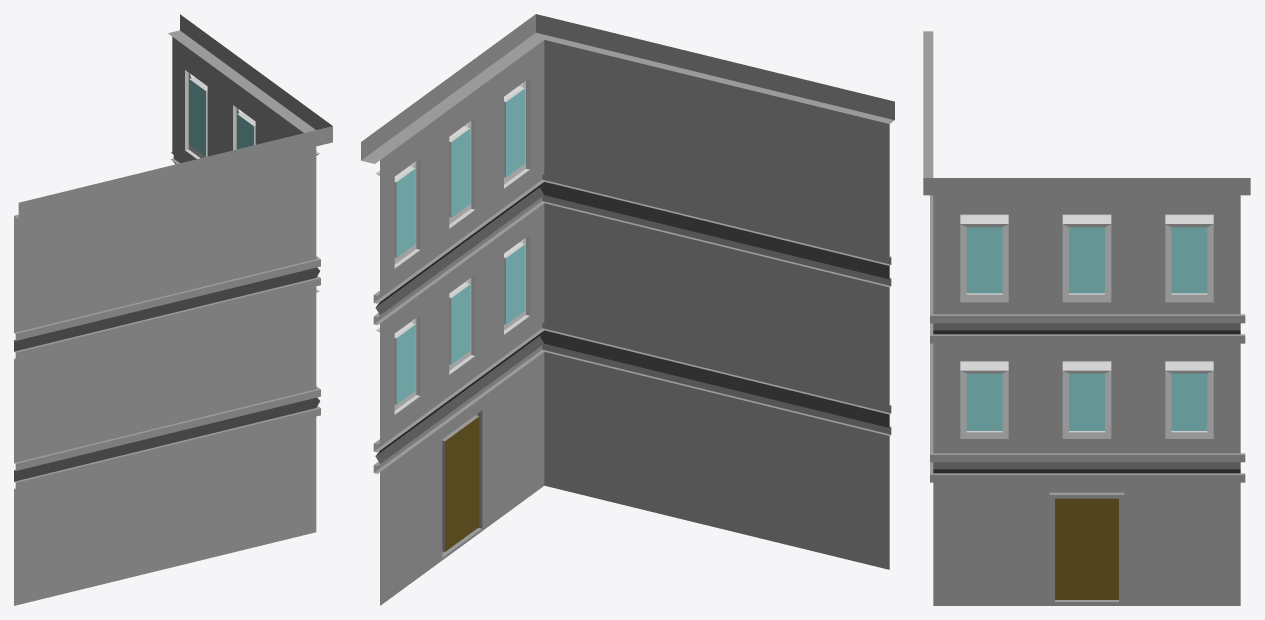
The model's file is EdificioDer.fbx.
The picture shows the model from 3 angles, left to right: view 1: azimuth 30°, elevation 25°; view 2: azimuth 150°, elevation 25°; view 3: azimuth 270°, elevation 25°; orthographic projection. The views are drawn at different scales.
Visible parts, largest first — view 1: EdificioDer; view 2: EdificioDer; view 3: EdificioDer.
Boxes of the visible parts, x1,y1,x2,y2 form: EdificioDer: [14, 14, 332, 605]; EdificioDer: [361, 14, 894, 605]; EdificioDer: [923, 31, 1250, 605].
Bounding box in the file's own units: 512 × 624 × 426.
